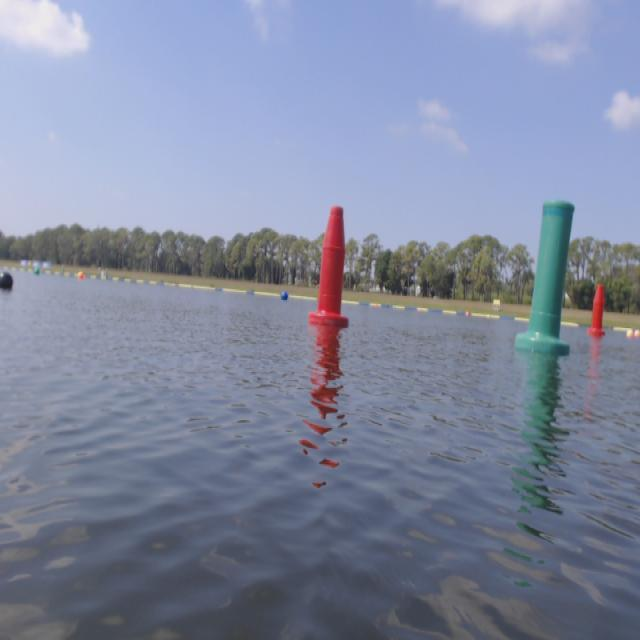Black_Buoy: (3, 269, 20, 298)
Green_Buoy: (542, 199, 568, 363)
Red_Buoy: (323, 210, 347, 330), (593, 287, 604, 346)
